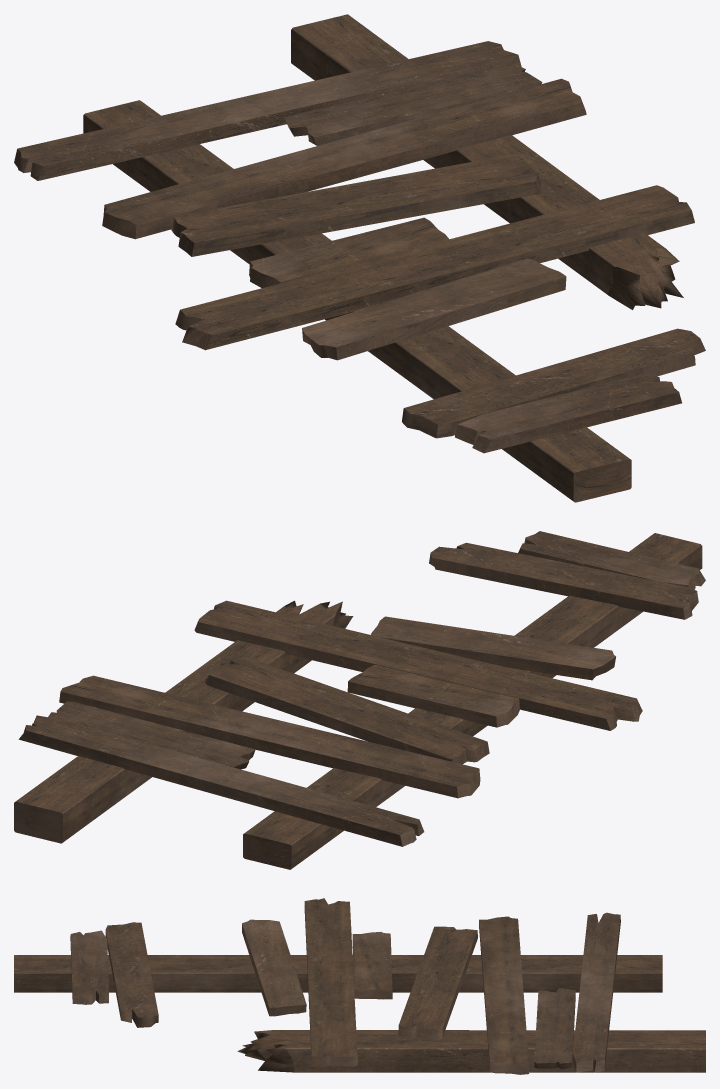
File: SM_Tower_Wooden_Floor_Ruined_02.fbx
The picture shows the model from 3 angles, top to bottom: view 1: azimuth 30°, elevation 25°; view 2: azimuth 150°, elevation 25°; view 3: azimuth 270°, elevation 25°; orthographic projection. The views are drawn at different scales.
Parts seen in each view (by area): view 1: SM_Tower_Wooden_Floor_Ruined_02_LOD0; view 2: SM_Tower_Wooden_Floor_Ruined_02_LOD0; view 3: SM_Tower_Wooden_Floor_Ruined_02_LOD0.
Boxes of the visible parts, box(x1,y1,x2,y2) form: SM_Tower_Wooden_Floor_Ruined_02_LOD0: box(14, 14, 705, 502); SM_Tower_Wooden_Floor_Ruined_02_LOD0: box(14, 531, 705, 869); SM_Tower_Wooden_Floor_Ruined_02_LOD0: box(14, 898, 705, 1074).
Size of what is drawn, in the model's own units: 384 by 34.56 by 645.
